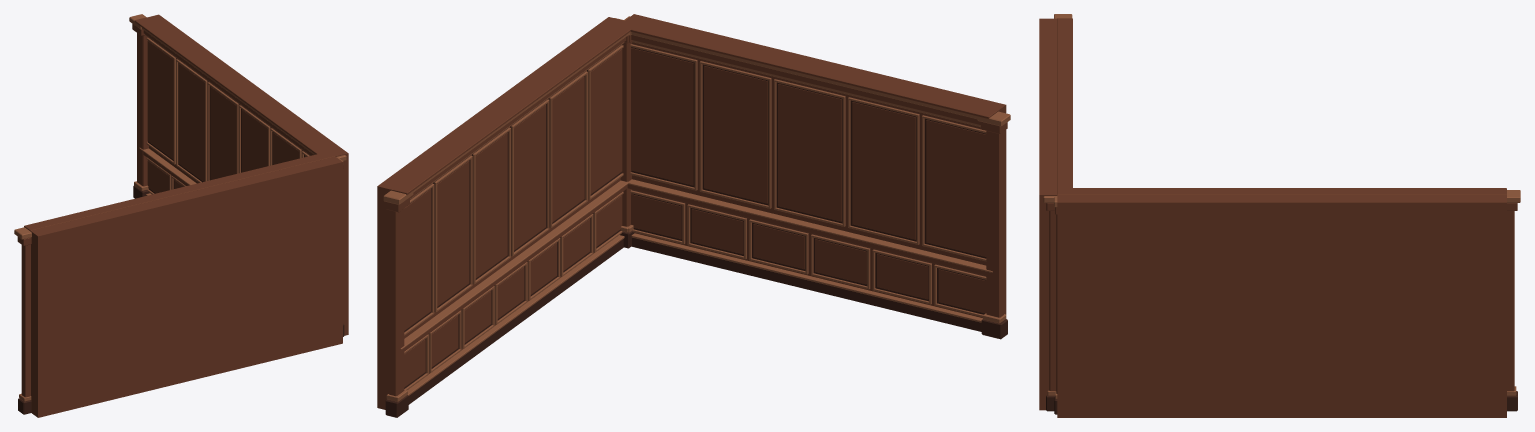
The model's file is main1f_f06_complete_shell.glb.
3 renders of one model, left to right at view 1: azimuth 30°, elevation 25°; view 2: azimuth 150°, elevation 25°; view 3: azimuth 270°, elevation 25°, orthographic. The views are drawn at different scales.
Visible parts, largest first — view 1: main1f_f06_front_Wall_Solid_00, main1f_f06_right_Wall_Solid_00, main1f_f06_right_Wall_UpperPanel_00_0_0_Field, main1f_f06_right_Wall_UpperPanel_00_0_1_Field, main1f_f06_right_Wall_Cornice_00_3_0, main1f_f06_front_Wall_Cornice_00_3_0, main1f_f06_right_Wall_UpperPanel_00_0_2_Field, Pilaster_Shaft_004, Pilaster_Shaft_009, main1f_f06_right_Wall_UpperPanel_00_0_3_Field, main1f_f06_right_Wall_Cornice_00_1_0, main1f_f06_right_Wall_UpperPanel_00_0_4_Field (+5 smaller); view 2: main1f_f06_front_Wall_Solid_00, main1f_f06_front_Wall_UpperPanel_00_0_2_Field, main1f_f06_front_Wall_UpperPanel_00_0_3_Field, main1f_f06_front_Wall_UpperPanel_00_0_1_Field, main1f_f06_front_Wall_UpperPanel_00_0_0_Field, main1f_f06_front_Wall_UpperPanel_00_0_4_Field, main1f_f06_right_Wall_Solid_00, main1f_f06_right_Wall_UpperPanel_00_0_2_Field, main1f_f06_right_Wall_UpperPanel_00_0_1_Field, main1f_f06_right_Wall_UpperPanel_00_0_4_Field, main1f_f06_right_Wall_UpperPanel_00_0_5_Field, main1f_f06_right_Wall_UpperPanel_00_0_3_Field (+37 smaller); view 3: main1f_f06_right_Wall_Solid_00, main1f_f06_front_Wall_Solid_00, main1f_f06_right_Wall_Cornice_00_3_0, main1f_f06_front_Wall_Cornice_00_3_0, Pilaster_Shaft_004, Pilaster_Shaft_005.
Boxes of the visible parts, left/top/right/bottom form: main1f_f06_front_Wall_Solid_00: left=30, top=156, right=342, bottom=417; main1f_f06_right_Wall_Solid_00: left=146, top=14, right=348, bottom=335; main1f_f06_right_Wall_UpperPanel_00_0_0_Field: left=147, top=41, right=173, bottom=159; main1f_f06_right_Wall_UpperPanel_00_0_1_Field: left=179, top=64, right=204, bottom=181; main1f_f06_right_Wall_Cornice_00_3_0: left=134, top=17, right=334, bottom=158; main1f_f06_front_Wall_Cornice_00_3_0: left=24, top=154, right=334, bottom=231; main1f_f06_right_Wall_UpperPanel_00_0_2_Field: left=210, top=86, right=236, bottom=180; Pilaster_Shaft_004: left=137, top=33, right=148, bottom=186; Pilaster_Shaft_009: left=21, top=244, right=30, bottom=397; main1f_f06_right_Wall_UpperPanel_00_0_3_Field: left=241, top=110, right=267, bottom=172; main1f_f06_right_Wall_Cornice_00_1_0: left=143, top=30, right=313, bottom=155; main1f_f06_right_Wall_UpperPanel_00_0_4_Field: left=273, top=132, right=299, bottom=164; main1f_f06_front_Wall_Solid_00: left=625, top=14, right=1006, bottom=317; main1f_f06_front_Wall_UpperPanel_00_0_2_Field: left=778, top=84, right=841, bottom=221; main1f_f06_front_Wall_UpperPanel_00_0_3_Field: left=852, top=102, right=915, bottom=239; main1f_f06_front_Wall_UpperPanel_00_0_1_Field: left=704, top=66, right=767, bottom=203; main1f_f06_front_Wall_UpperPanel_00_0_0_Field: left=631, top=48, right=693, bottom=185; main1f_f06_front_Wall_UpperPanel_00_0_4_Field: left=926, top=120, right=986, bottom=256; main1f_f06_right_Wall_Solid_00: left=377, top=17, right=623, bottom=409; main1f_f06_right_Wall_UpperPanel_00_0_2_Field: left=475, top=133, right=507, bottom=278; main1f_f06_right_Wall_UpperPanel_00_0_1_Field: left=437, top=161, right=469, bottom=306; main1f_f06_right_Wall_UpperPanel_00_0_4_Field: left=552, top=77, right=584, bottom=222; main1f_f06_right_Wall_UpperPanel_00_0_5_Field: left=590, top=49, right=622, bottom=193; main1f_f06_right_Wall_UpperPanel_00_0_3_Field: left=514, top=105, right=545, bottom=250; main1f_f06_right_Wall_Solid_00: left=1057, top=195, right=1506, bottom=417; main1f_f06_front_Wall_Solid_00: left=1039, top=18, right=1057, bottom=410; main1f_f06_right_Wall_Cornice_00_3_0: left=1057, top=188, right=1506, bottom=194; main1f_f06_front_Wall_Cornice_00_3_0: left=1057, top=18, right=1072, bottom=194; Pilaster_Shaft_004: left=1507, top=211, right=1514, bottom=391; Pilaster_Shaft_005: left=1049, top=211, right=1056, bottom=391.
Bounding box in the file's own units: 7 × 3.71 × 7.5.
